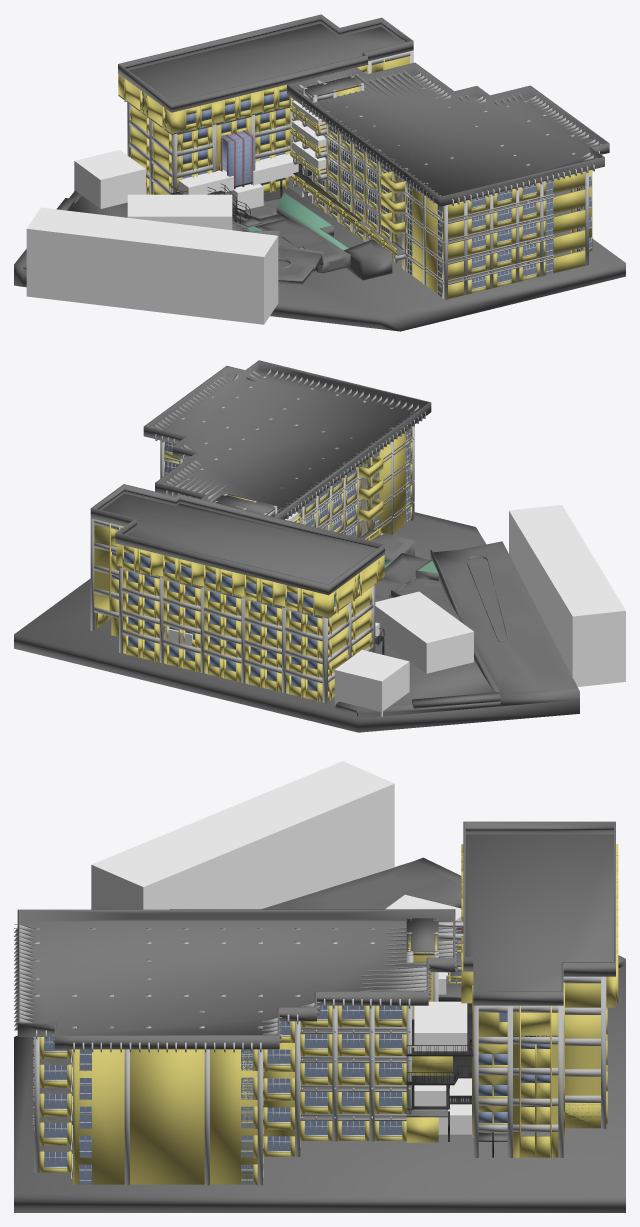
Rendered from dep_build_pc_blend_vc.glb.
3 renders of one model, top to bottom at view 1: azimuth 30°, elevation 25°; view 2: azimuth 150°, elevation 25°; view 3: azimuth 270°, elevation 25°, orthographic. The views are drawn at different scales.
Visible parts, largest first — view 1: all_building, vols_0.002, vols_6.002, vols_15.002, vols_14.002, vols_13.002, vols_7.002, vols_10.002, vols_9.002; view 2: all_building, vols_0.002, vols_6.002, vols_15.002; view 3: all_building, vols_0.002, vols_5.002, vols_11.002, vols_12.002, vols_6.002.
Boxes of the visible parts, x1,y1,x2,y2 form: all_building: (14,14,625,331); vols_0.002: (26,207,278,324); vols_6.002: (127,194,232,230); vols_15.002: (74,150,145,208); vols_14.002: (178,169,233,194); vols_13.002: (252,153,298,185); vols_7.002: (225,184,263,211); vols_10.002: (292,141,338,172); vols_9.002: (292,120,338,150); all_building: (14,360,579,732); vols_0.002: (509,505,625,686); vols_6.002: (375,591,473,673); vols_15.002: (334,650,409,716); all_building: (14,821,625,1212); vols_0.002: (91,761,394,909); vols_5.002: (414,1001,467,1051); vols_11.002: (438,1078,471,1134); vols_12.002: (414,1085,446,1110); vols_6.002: (385,894,461,927).
Size of the model in its own units: 74.74 by 19.2 by 57.52.
